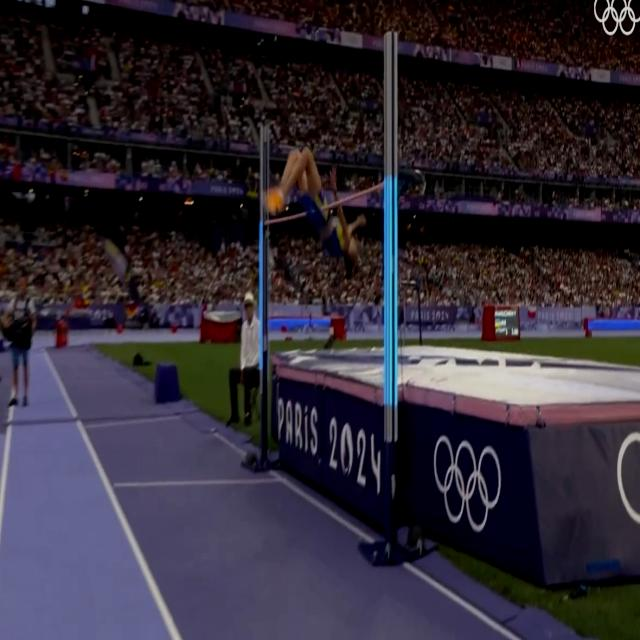land: (263, 145, 367, 281)
